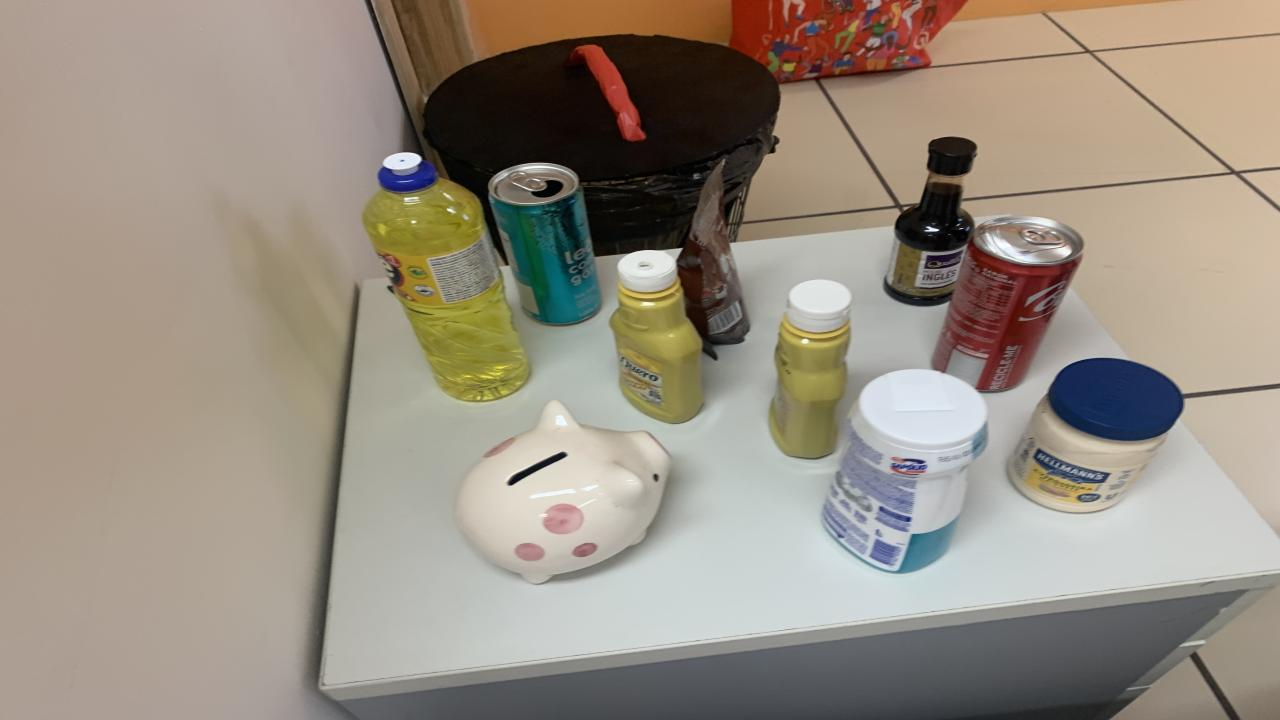Cleaner-Cleanup_Items: (822, 369, 988, 574)
Coffee-Pantry_Items: (678, 161, 750, 358)
Coke-Drinks: (932, 216, 1085, 392)
Detergent-Cleanup_Items: (362, 152, 530, 401)
English_Sauce-Pantry_Items: (885, 137, 978, 306)
Mayonnaise-Pantry_Items: (1008, 358, 1182, 512)
Mustard-Pantry_Items: (610, 249, 702, 424), (770, 279, 852, 458)
Pig_Safe-Miscellaneous: (455, 399, 670, 583)
Tea-Drinks: (490, 163, 600, 324)
